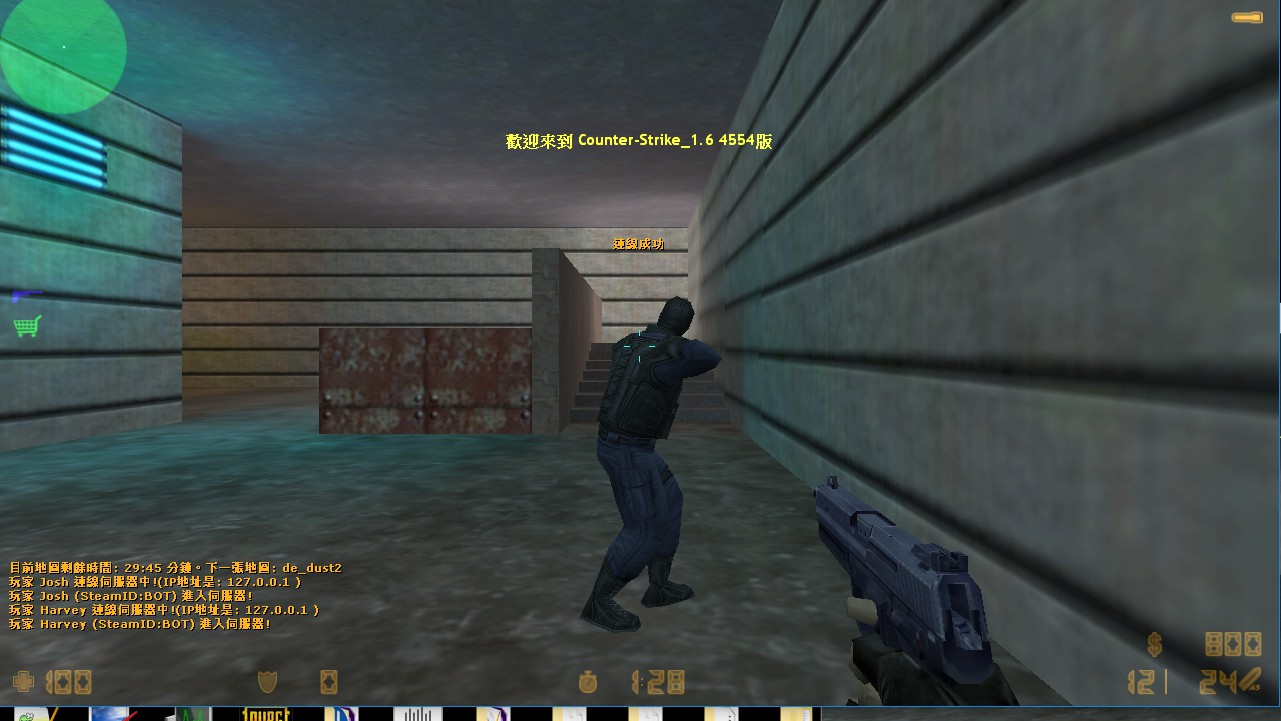person: (600, 277, 706, 629)
